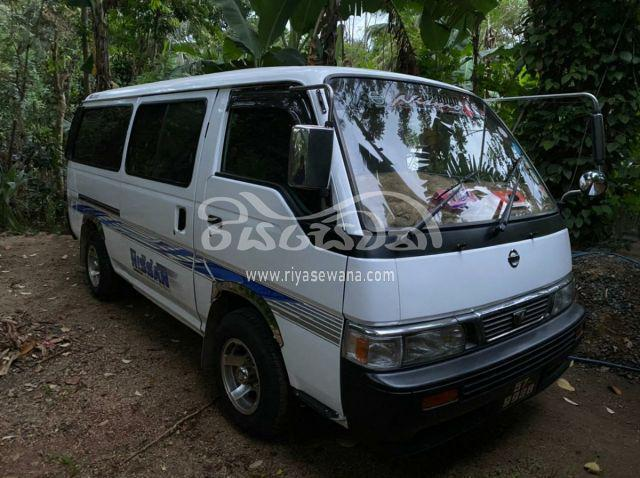Van: (52, 56, 607, 443)
